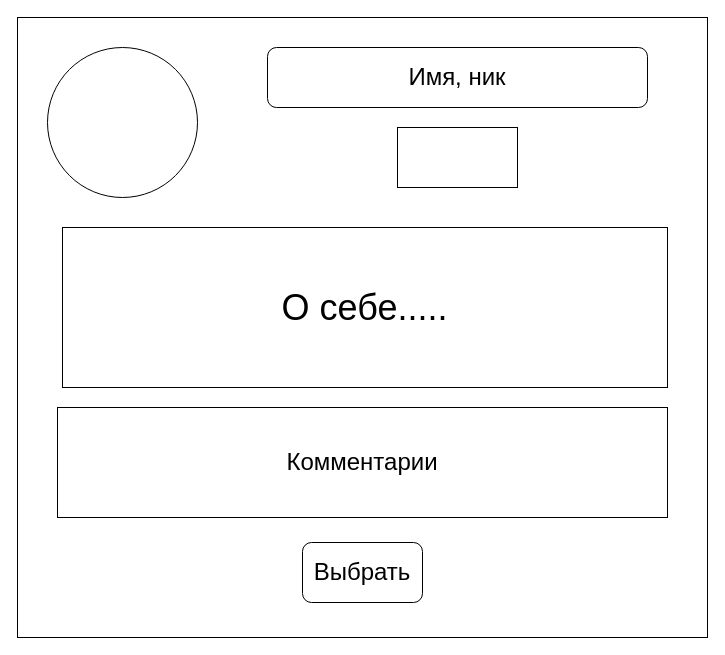
Some shapes in this 725 by 655 pixel diagram are drawn without their labels. The shapes that lost their labels are listed below. From the top down, each one's box as (x1, y1, x2, y2) in pixels, then its label:
(46, 46, 198, 198): Фото
(396, 126, 518, 188): Рейтинг
